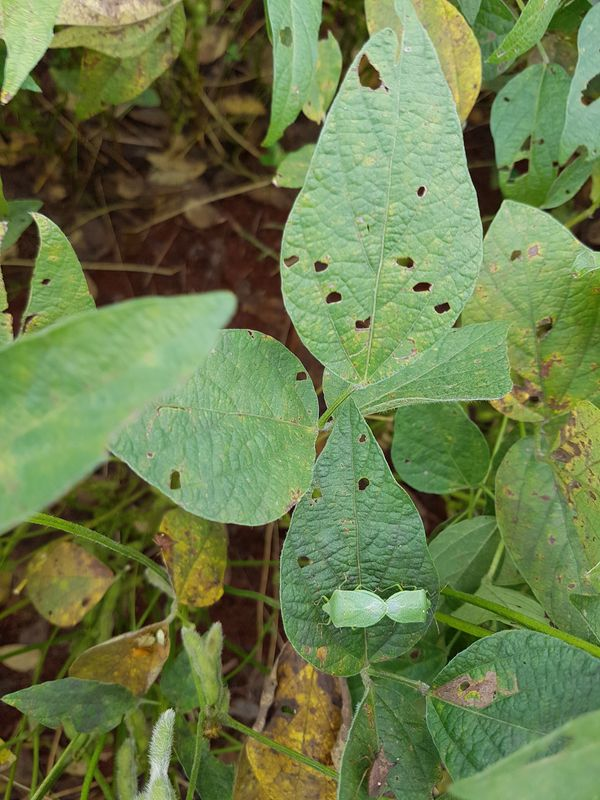Euschistus_heros_adulto: (348, 737, 408, 800), (143, 523, 182, 558)
Nezara_viridula_adulto: (305, 569, 385, 648), (383, 567, 453, 650)
